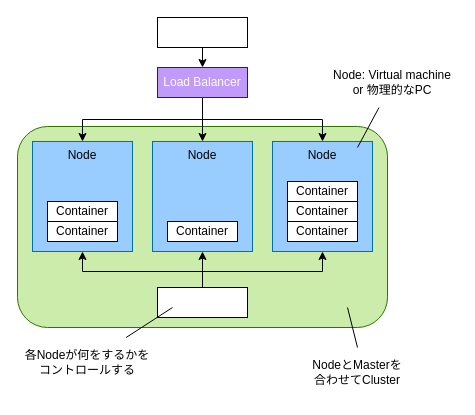
Image size: 475x415. Some labels were removed from this diagram. The box of each missing label's shape, as (x1, y1, x2, y2) in pixels:
Master: (156, 286, 248, 318)
Request: (156, 16, 248, 48)
